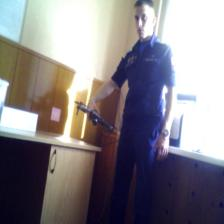drone: (72, 97, 120, 143)
